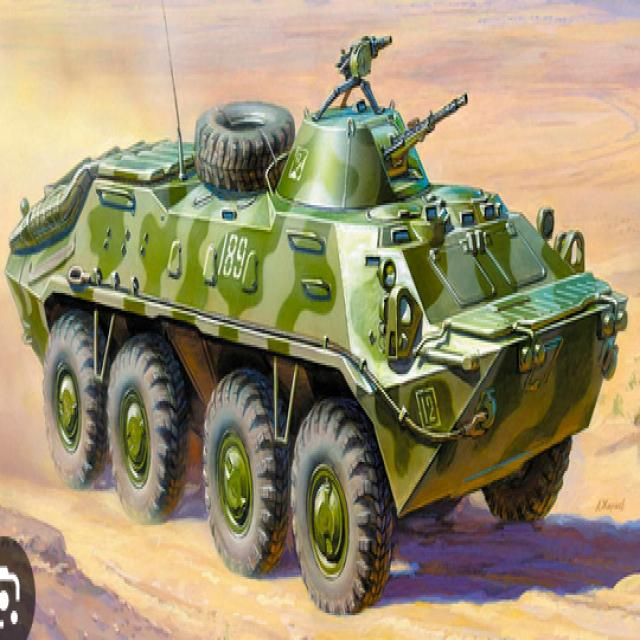MIL_APC: (17, 75, 639, 586)
